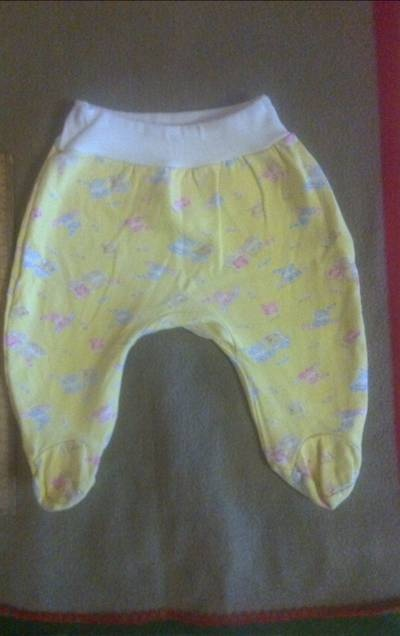Pants: (16, 90, 376, 530)
